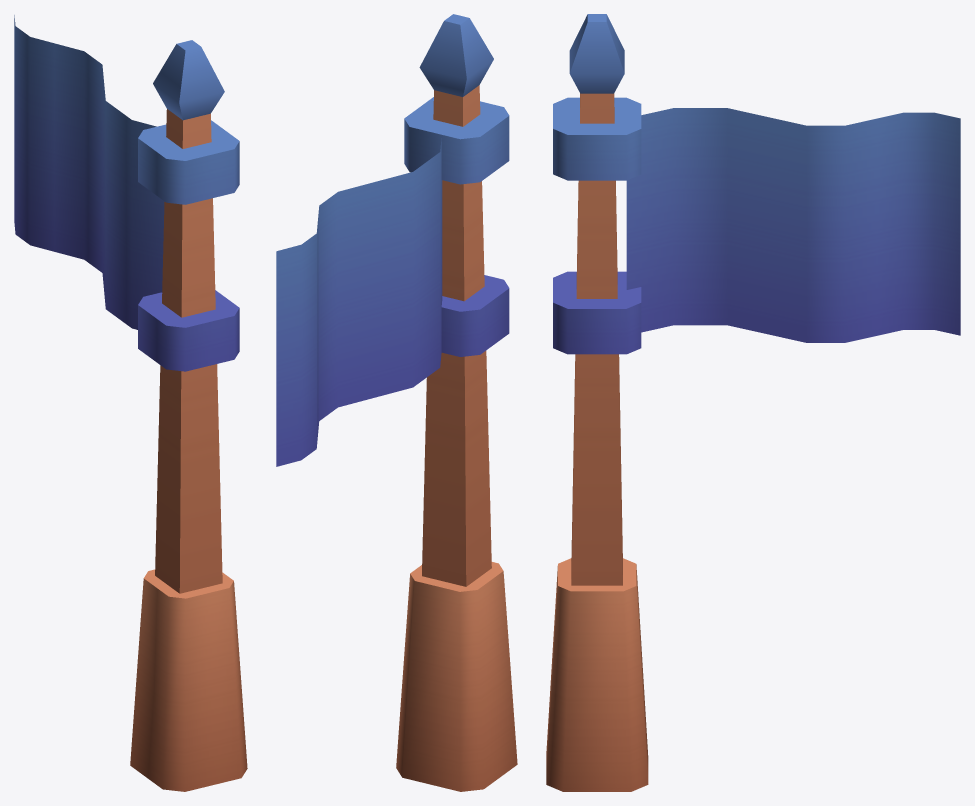
The model's file is flag_5__5_lev2.glb.
3 renders of one model, left to right at view 1: azimuth 30°, elevation 25°; view 2: azimuth 150°, elevation 25°; view 3: azimuth 270°, elevation 25°, orthographic. The views are drawn at different scales.
Visible parts, largest first — view 1: flag_5__5_lev2; view 2: flag_5__5_lev2; view 3: flag_5__5_lev2.
Part boxes in pixels (x1,y1,x2,y2): flag_5__5_lev2: (14, 15, 247, 791); flag_5__5_lev2: (276, 14, 517, 791); flag_5__5_lev2: (546, 14, 960, 791).
Bounding box in the file's own units: 0.1064 × 0.8656 × 0.4323.
1 material, 1 textured.
